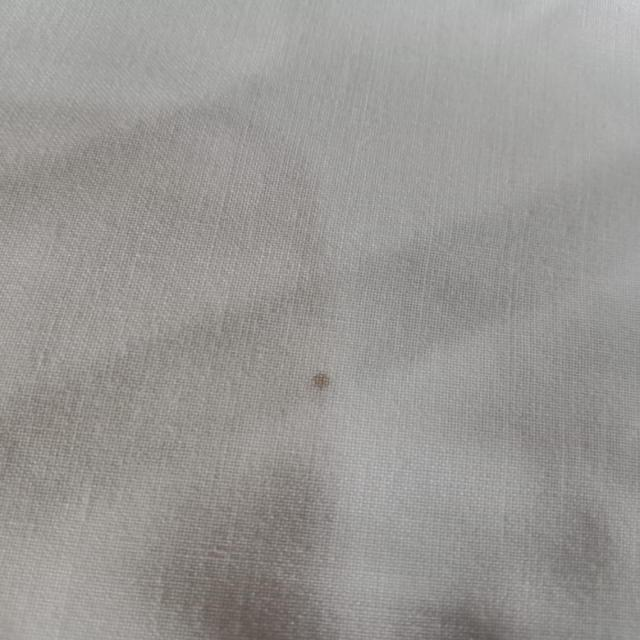stain: (284, 358, 354, 407)
